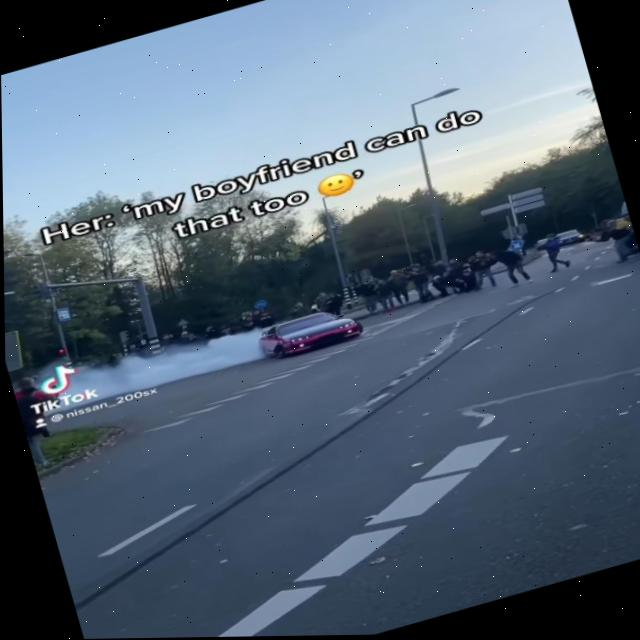vehicle: (251, 300, 367, 368)
